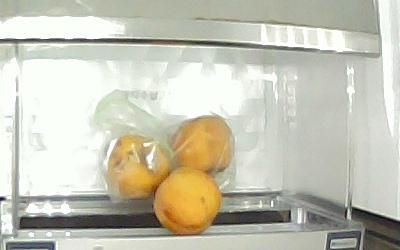peach: (153, 166, 223, 237)
peach_vinyl: (100, 135, 173, 200), (172, 115, 234, 174)
